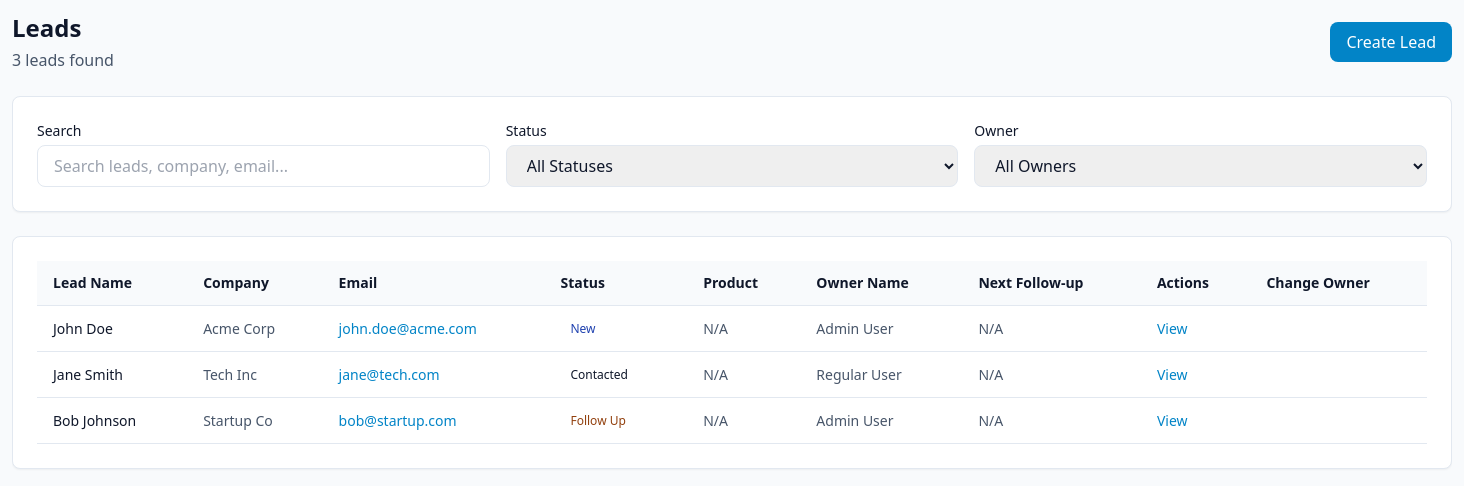
LeadsList › Filtering › filters leads by search
expect the text "John Doe" is shown: met, box [53,318,113,338]
Step 1. Type "Jane" into the field with placeholder "Search leads, company, email..." → {"x": 263, "y": 166}, box [37,145,490,187]
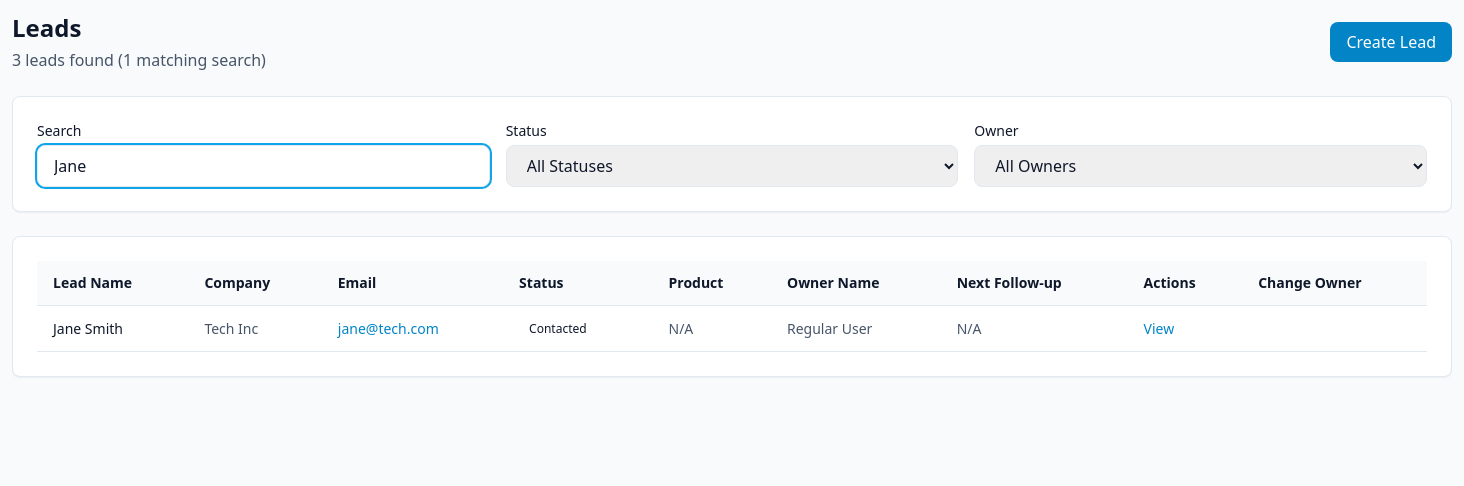
expect the text "Jane Smith" is shown: met, box [53,318,123,338]
expect the text "John Doe" is gone: met
